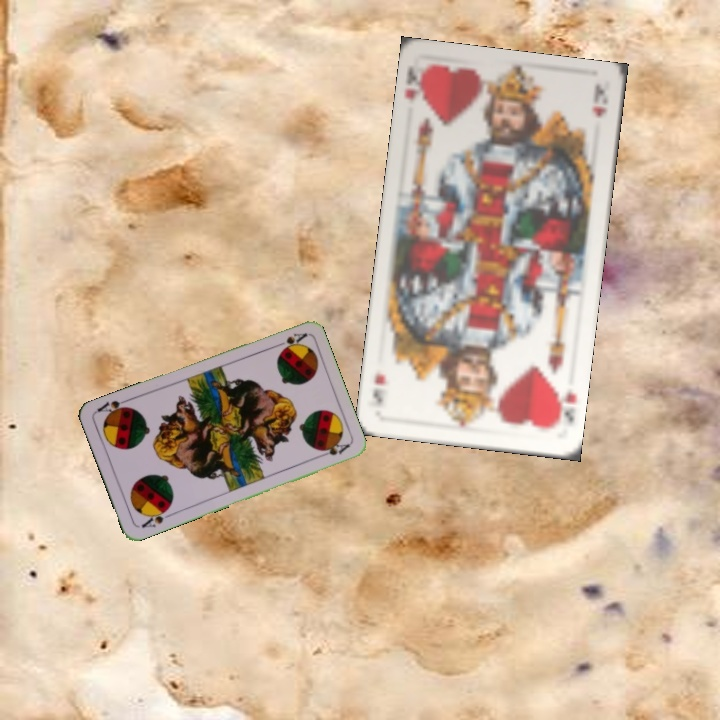HK: (401, 62, 428, 109), (552, 384, 579, 426)
SA: (137, 503, 172, 530), (269, 329, 309, 352)
